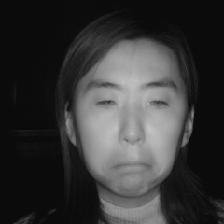sad: (51, 13, 202, 196)
